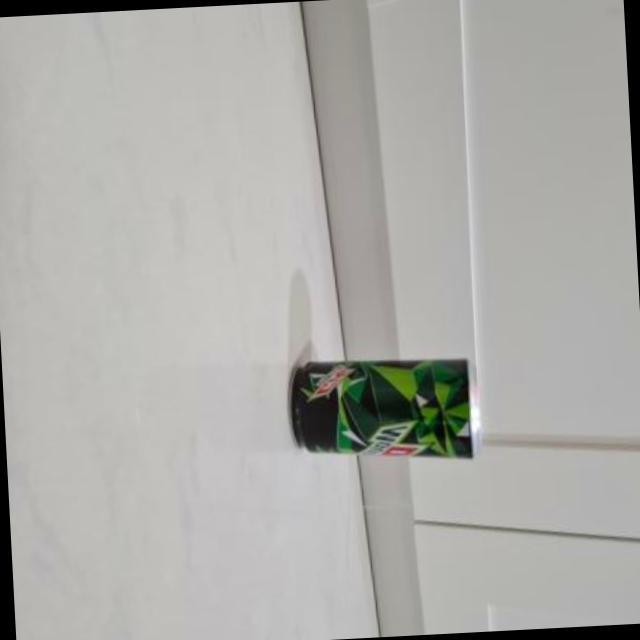metal: (296, 361, 481, 459)
